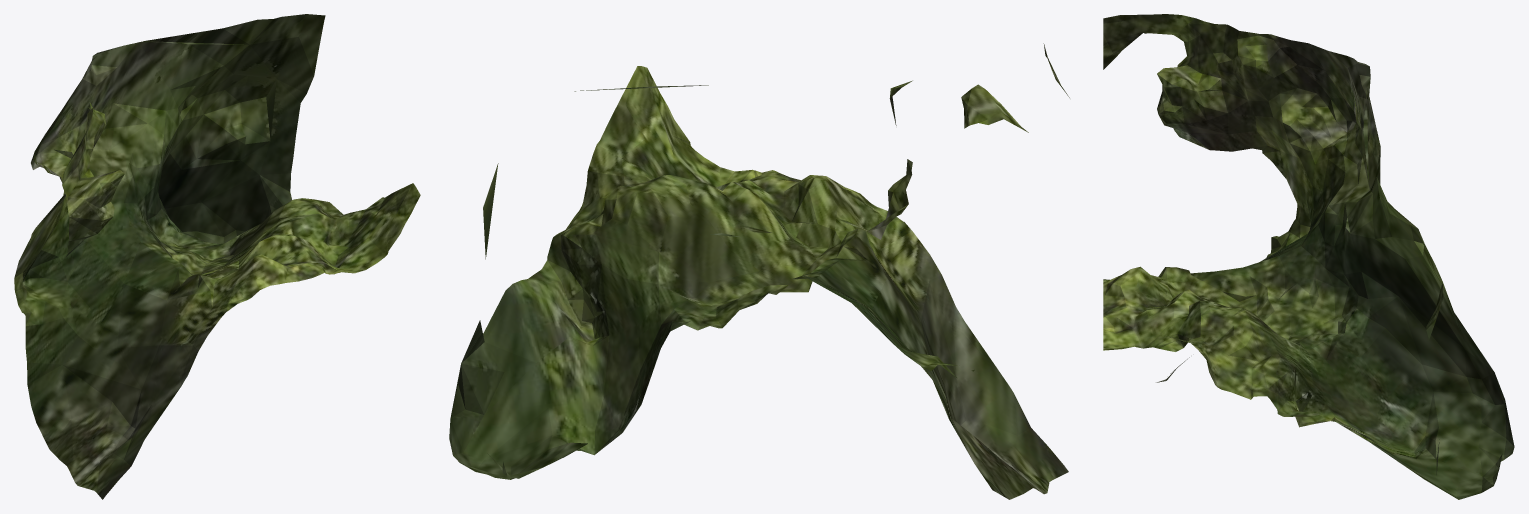
The picture shows the model from 3 angles, left to right: view 1: azimuth 30°, elevation 25°; view 2: azimuth 150°, elevation 25°; view 3: azimuth 270°, elevation 25°; orthographic projection. The views are drawn at different scales.
Bounding box in the file's own units: 2.95 × 2.95 × 2.83.
4 materials, 4 textured.
